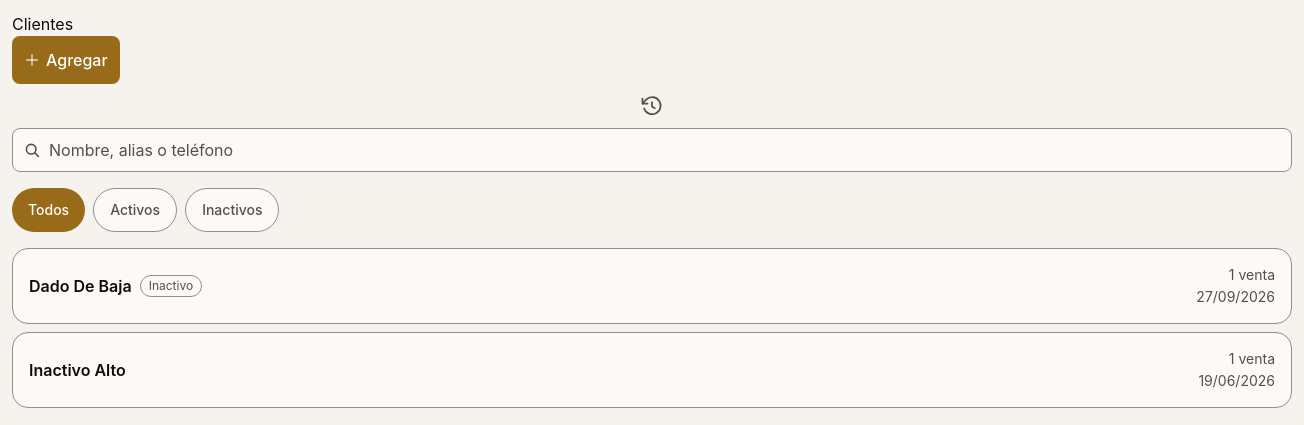
Test: Clientes - terna Todos/Activos/Inactivos (WA-G, docs/06-ui-ux.md §3) › "Activos" vacío (sin búsqueda): mensaje sobrio específico
The image size is (1304, 425).
Click the button "Activos" at (135, 210), box [93,188,177,232]
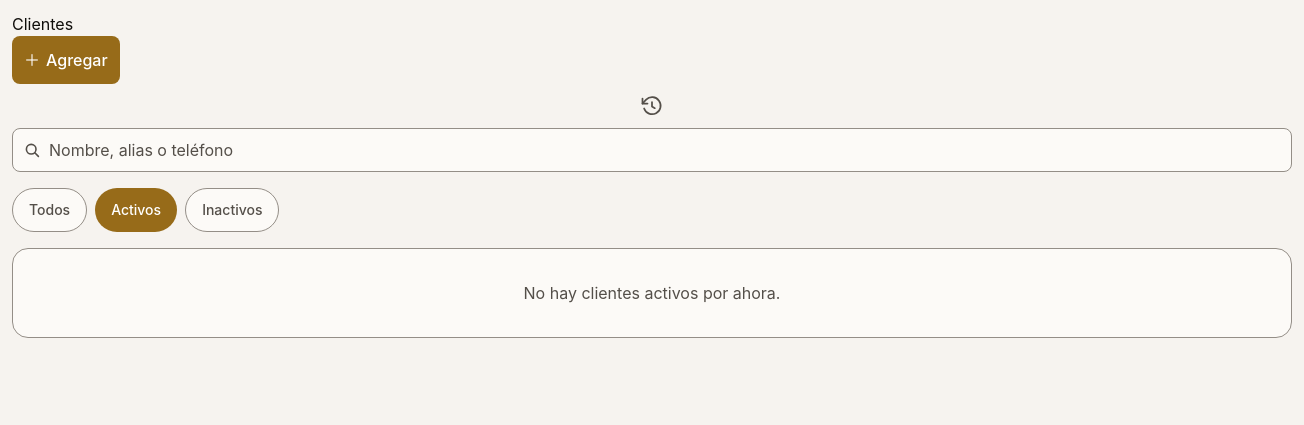
Check: the text "No hay clientes activos por ahora." is shown, box [12,248,1292,338]
